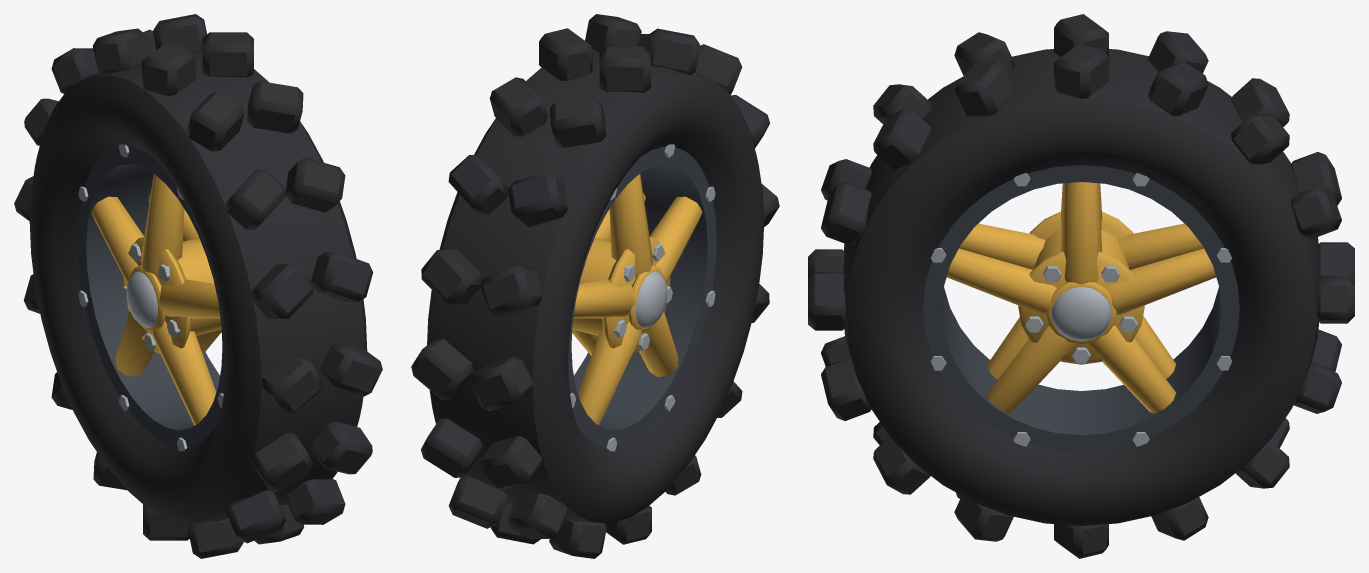
Rendered from part_big_wheel.glb.
The picture shows the model from 3 angles, left to right: view 1: azimuth 30°, elevation 25°; view 2: azimuth 150°, elevation 25°; view 3: azimuth 270°, elevation 25°; orthographic projection. The views are drawn at different scales.
Parts seen in each view (by area): view 1: Wheel; view 2: Wheel; view 3: Wheel.
Part boxes in pixels (x1,y1,x2,y2): Wheel: [14, 14, 382, 558]; Wheel: [411, 14, 779, 558]; Wheel: [808, 14, 1354, 558].
Size of the model in its own units: 0.45 by 1.6 by 1.6.
